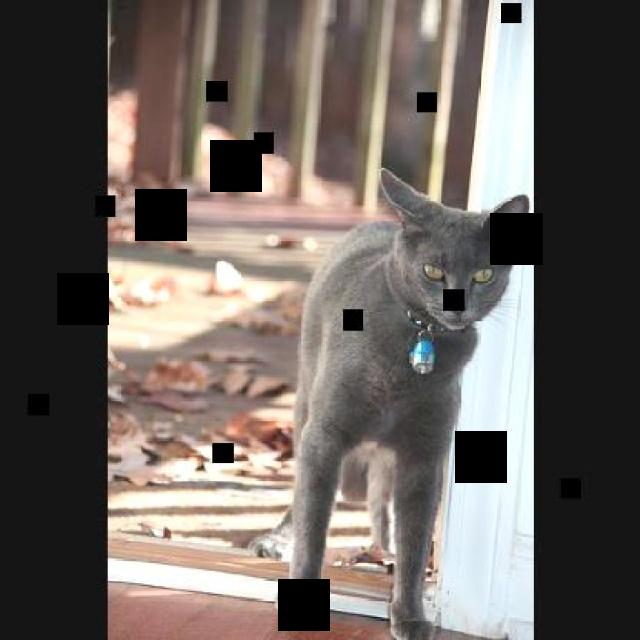unauthorized: (258, 164, 530, 638)
